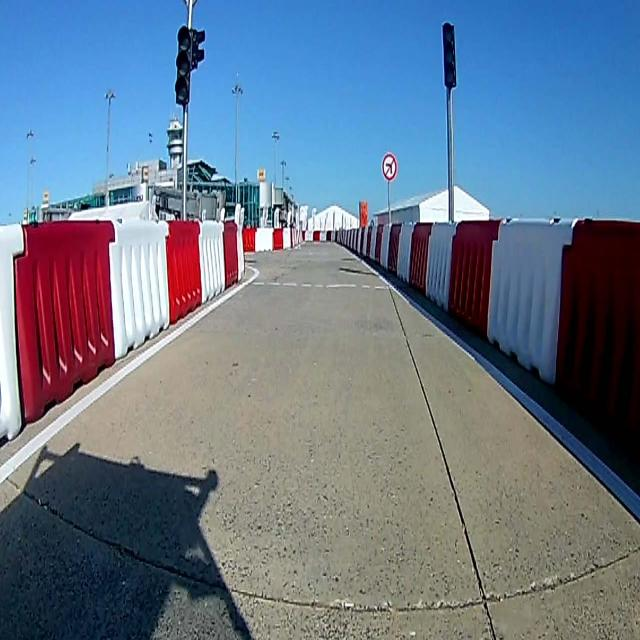soladonulmez: (382, 154, 398, 180)
